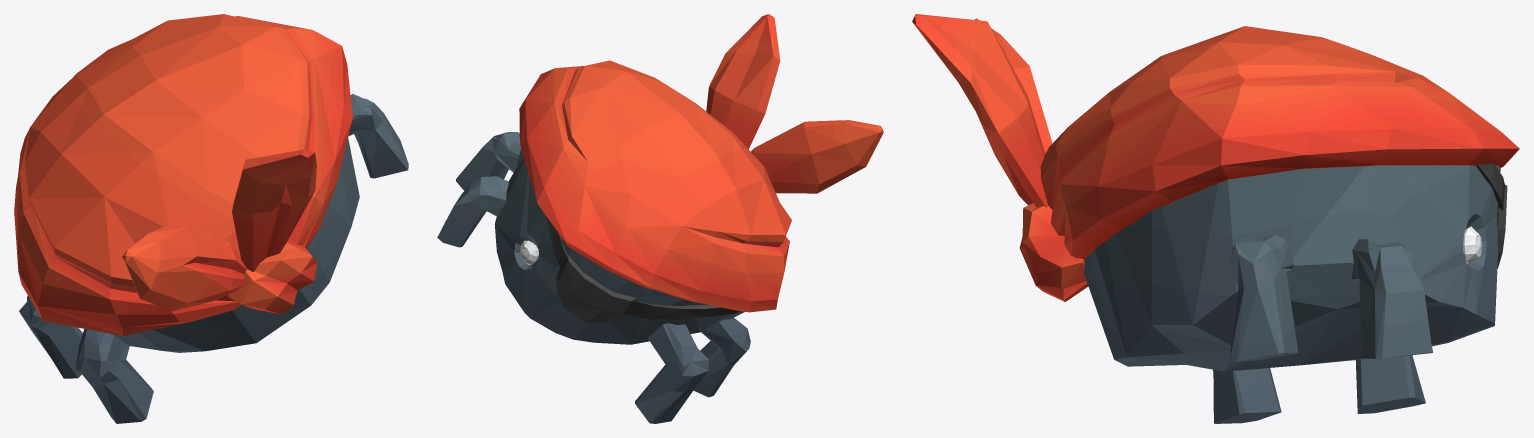
File: CharSkyKid_Neck_CrabBandana.glb
3 views of the same model, side by side, from view 1: azimuth 30°, elevation 25°; view 2: azimuth 150°, elevation 25°; view 3: azimuth 270°, elevation 25° (orthographic). The views are drawn at different scales.
Visible parts, largest first — view 1: CharSkyKid_Neck_CrabBandana; view 2: CharSkyKid_Neck_CrabBandana; view 3: CharSkyKid_Neck_CrabBandana.
Boxes of the visible parts, bbox=[...] form: CharSkyKid_Neck_CrabBandana: bbox=[14, 14, 408, 423]; CharSkyKid_Neck_CrabBandana: bbox=[437, 14, 883, 423]; CharSkyKid_Neck_CrabBandana: bbox=[912, 14, 1519, 423].
Bounding box in the file's own units: 1.83 × 1.59 × 1.92.
Materials: 1 (1 with a texture image).
